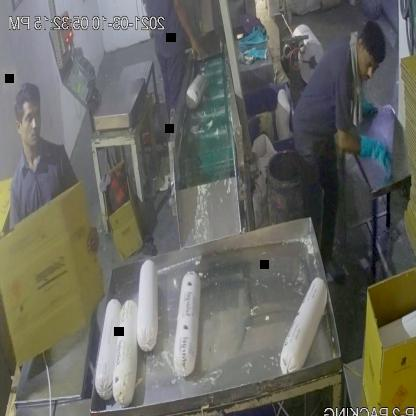glove: (356, 120, 392, 179)
no_glove: (173, 0, 204, 63)
